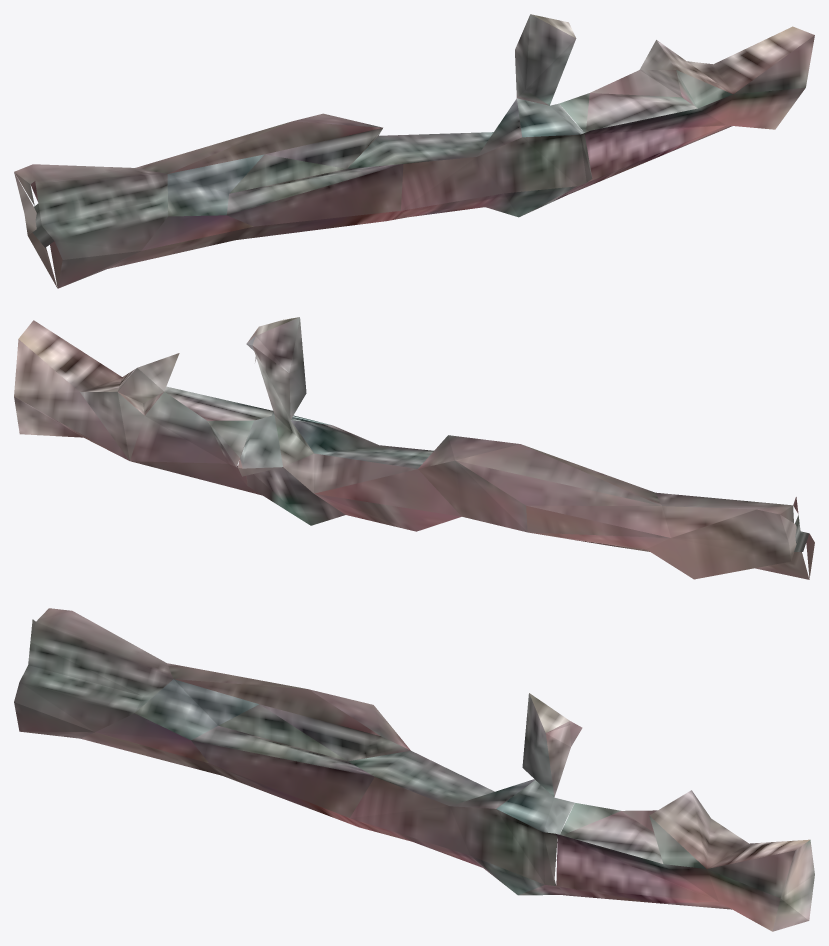
3 views of the same model, one above another, from view 1: azimuth 30°, elevation 25°; view 2: azimuth 150°, elevation 25°; view 3: azimuth 330°, elevation 25° (orthographic). The views are drawn at different scales.
Visible parts, largest first — view 1: Mesh_0; view 2: Mesh_0; view 3: Mesh_0.
Part boxes in pixels (x1,y1,x2,y2): Mesh_0: [14, 14, 814, 288]; Mesh_0: [14, 317, 814, 579]; Mesh_0: [14, 608, 814, 931].
Bounding box in the file's own units: 21.26 × 5.34 × 2.68.
1 material, 1 textured.
